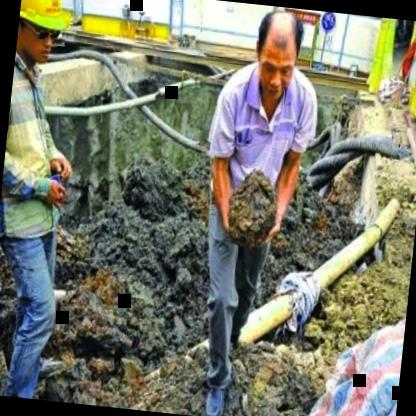head: (244, 4, 319, 112)
helmet: (13, 0, 77, 70)
